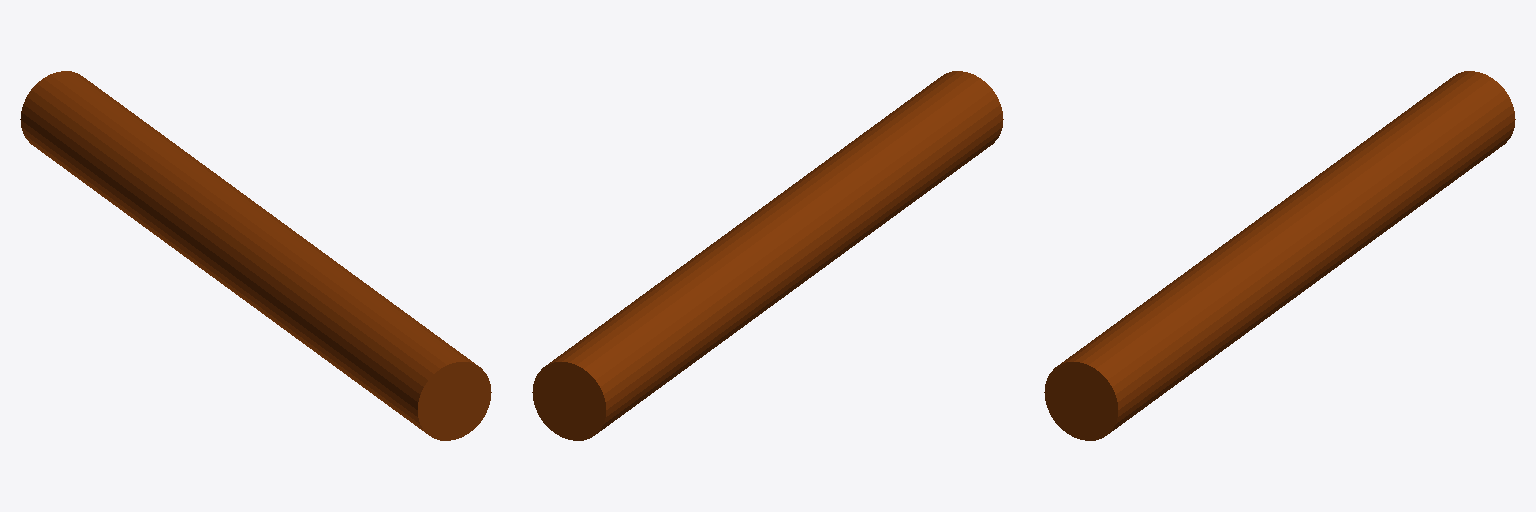
robot.urdf — cylinder:
<?xml version="1.0" ?>
<!-- =================================================================================== -->
<!-- |    This document was autogenerated by xacro from cylinder.xacro                 | -->
<!-- |    EDITING THIS FILE BY HAND IS NOT RECOMMENDED                                 | -->
<!-- =================================================================================== -->
<robot name="cylinder">
  <link name="world"/>
  <link name="base">
    <visual>
      <origin rpy="1.57079633 0 0" xyz="0 0 0"/>
      <geometry>
        <cylinder length="7.07106781185" radius="0.38"/>
      </geometry>
      <material name="cylinder_material">
        <color rgba="0.545 0.271 0.075 1.0"/>
        <texture filename="../textures/tree_bark.jpg"/>
      </material>
    </visual>
    <collision>
      <origin rpy="1.57079633 0 0" xyz="0 0 0"/>
      <geometry>
        <cylinder length="7.07106781185" radius="0.38"/>
      </geometry>
    </collision>
    <inertial>
      <origin rpy="0 0 0" xyz="0 0 0"/>
      <mass value="1"/>
      <inertia ixx="4.2027666666484285" ixy="0.0" ixz="0.0" iyy="4.2027666666484285" iyz="0.0" izz="24.999999999890573"/>
    </inertial>
  </link>
  <joint name="base_joint" type="fixed">
    <parent link="world"/>
    <child link="base"/>
    <origin rpy="0 0 0" xyz="0.0 0.0 0.0"/>
  </joint>
</robot>

--- Facts derived from the render (not from the file) ---
Views: 3 orthographic renders of the robot side by side, from view 1: azimuth 30°, elevation 25°; view 2: azimuth 150°, elevation 25°; view 3: azimuth 330°, elevation 25°.
Robot: cylinder — 2 links, 1 joints (1 fixed); root link world; default pose: all joints at 0.
Visible links, largest first — view 1: base; view 2: base; view 3: base.
Boxes of the visible links, box(x1,y1,x2,y2) form: base: box(20, 71, 491, 440); base: box(532, 71, 1003, 440); base: box(1044, 71, 1515, 440).
Size in the robot's own frame: 0.76 by 7.07 by 0.76 metres.
Geometry: primitives only (box / cylinder / sphere), no mesh files.
